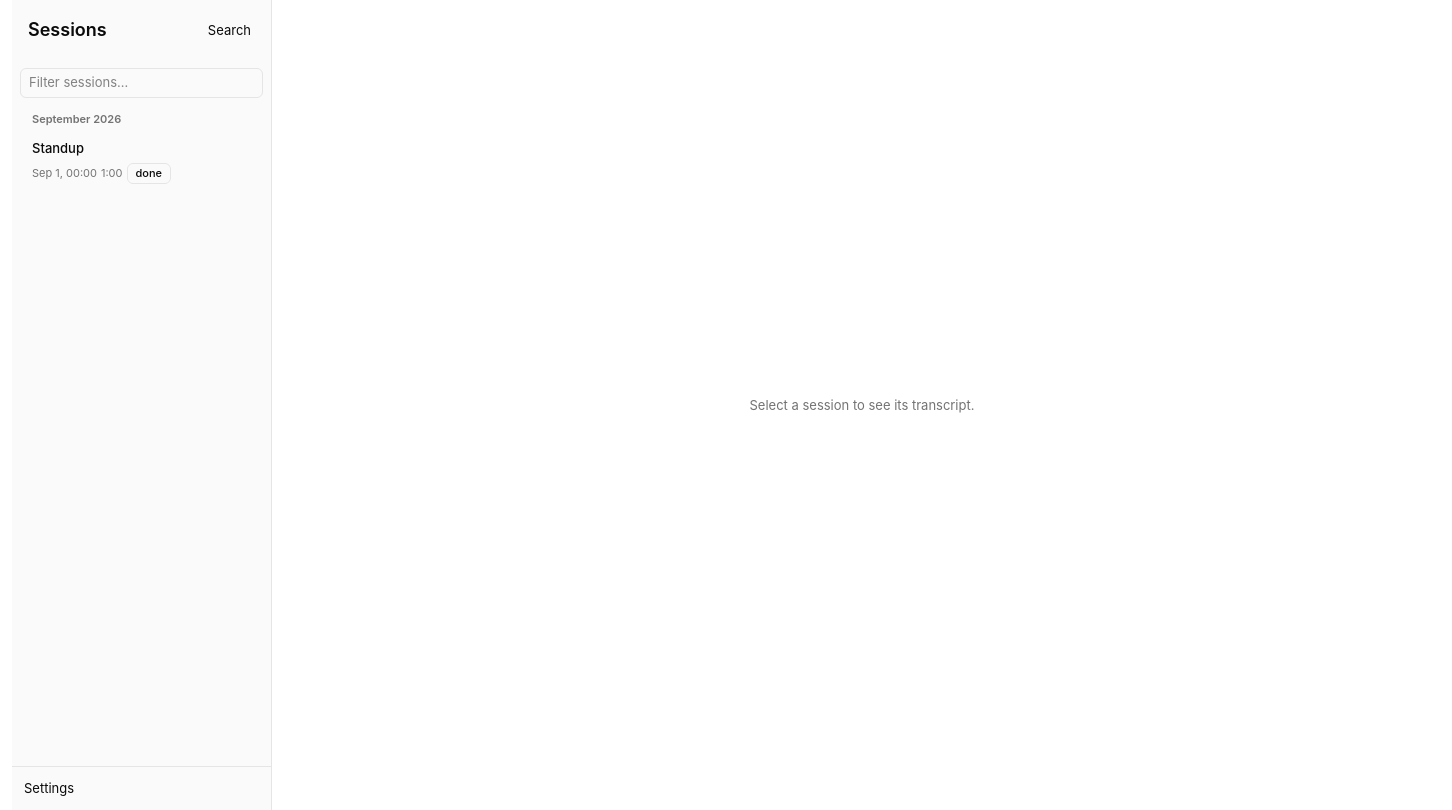
Test: refreshes the transcript after naming a speaker
Click the button "Standup Sep 1, 00:00 1:00 done". click: (142,162)
box: [20,134,263,190]
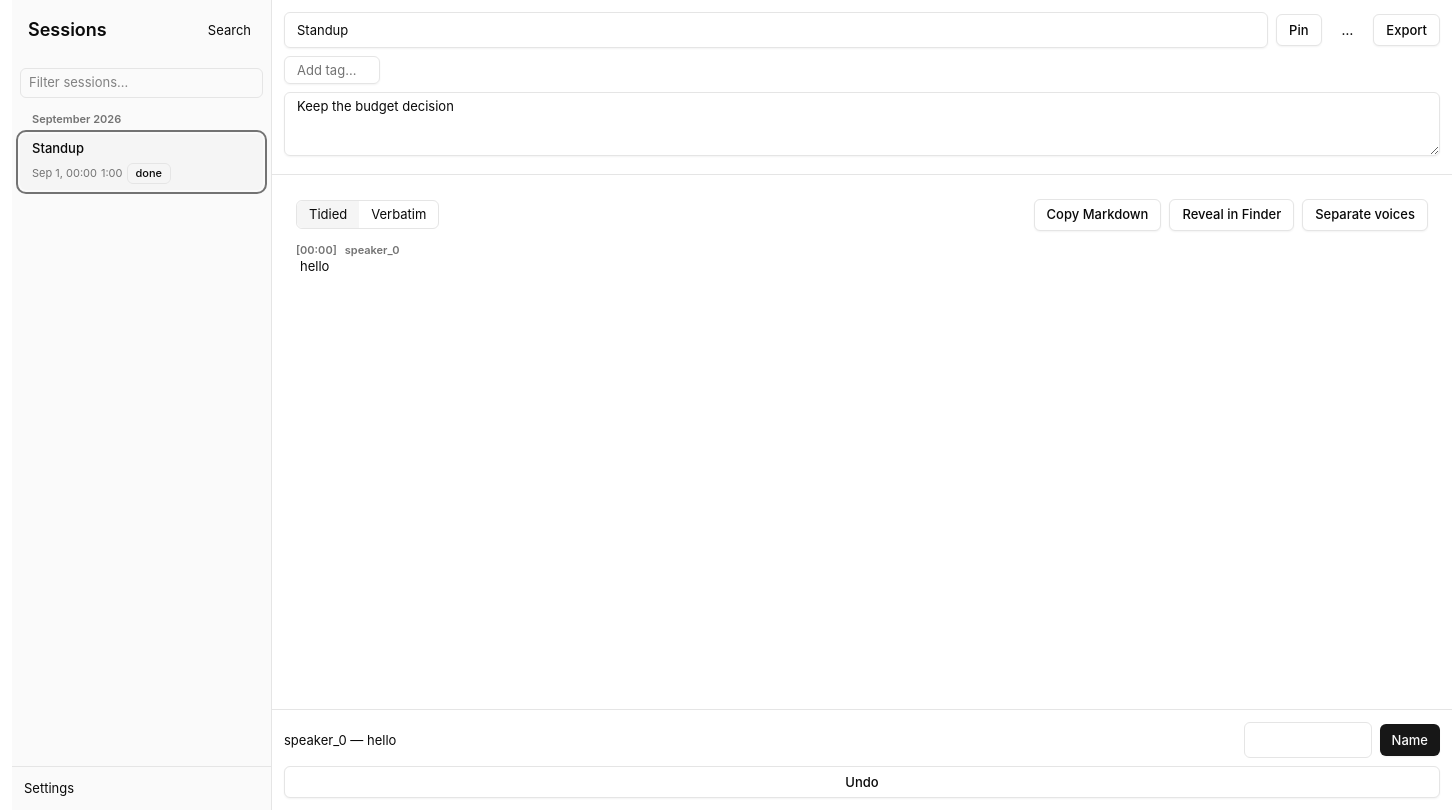
Type "Ana" into the field named "Name for speaker_0". click: (1308,740)
box: [1244,722,1372,758]
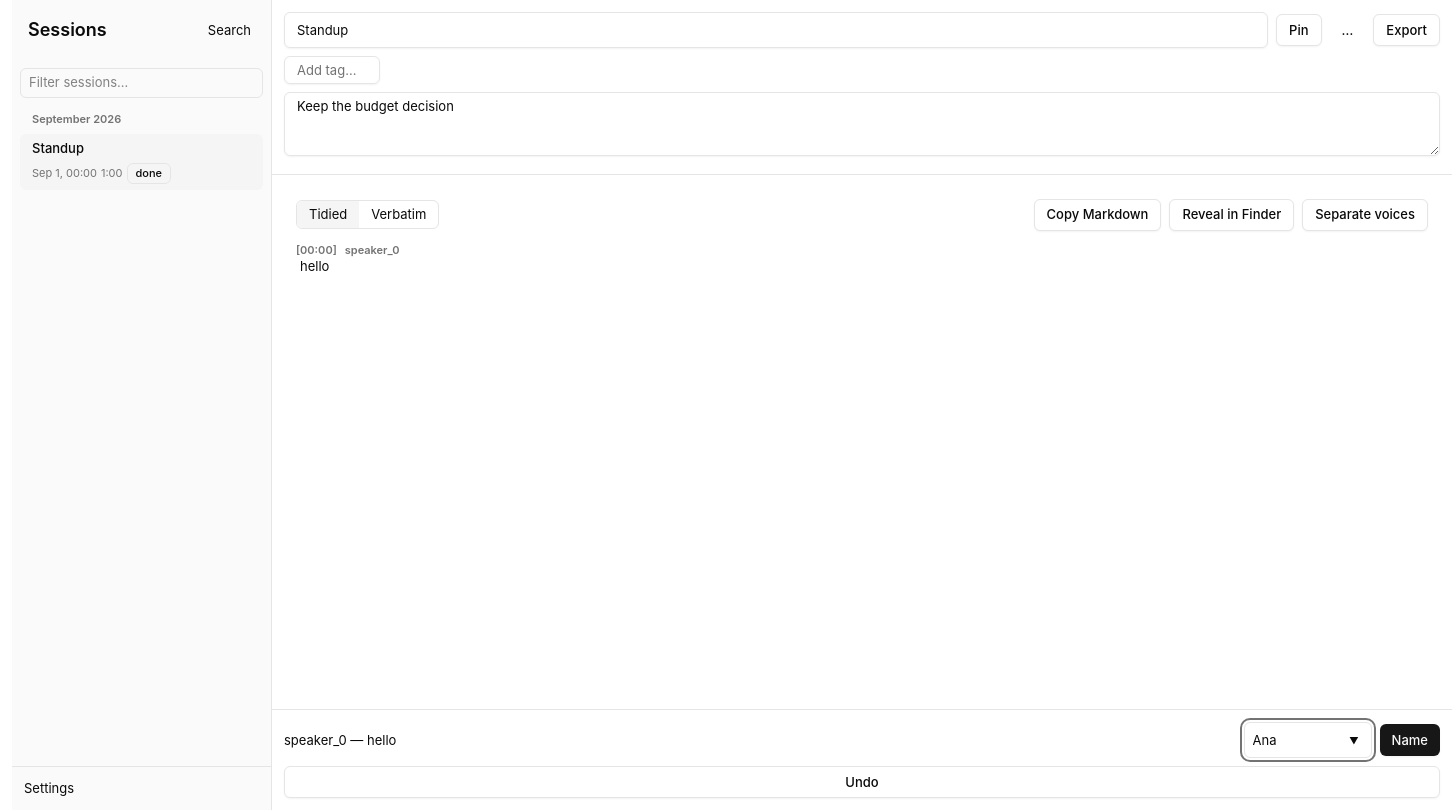
Click the button "Name". click: (1410,740)
box: [1380,724,1440,756]
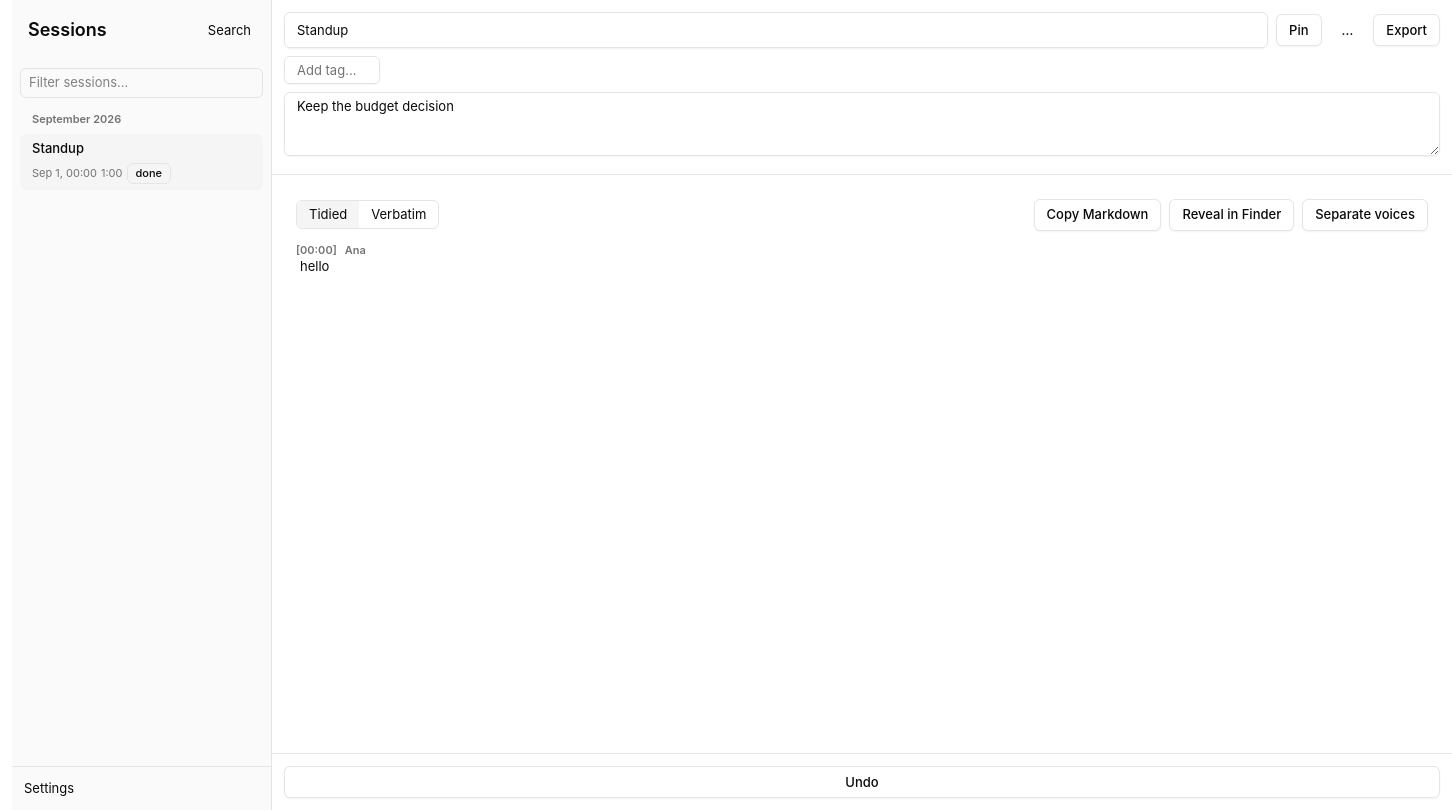
Check: the text "Ana" is shown, box [345,242,366,257]
